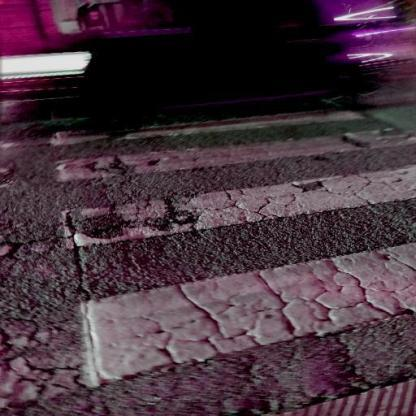crosswalk: (52, 122, 415, 254)
